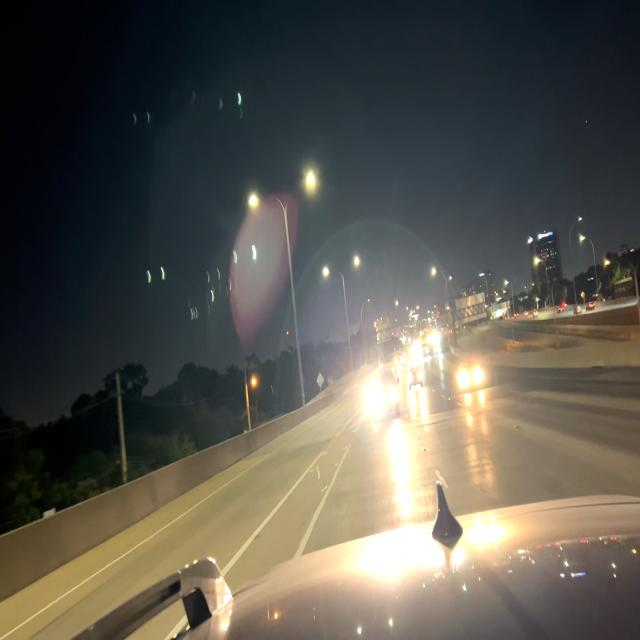back-of-sign: (453, 290, 487, 328), (376, 316, 394, 350), (315, 368, 325, 391)
